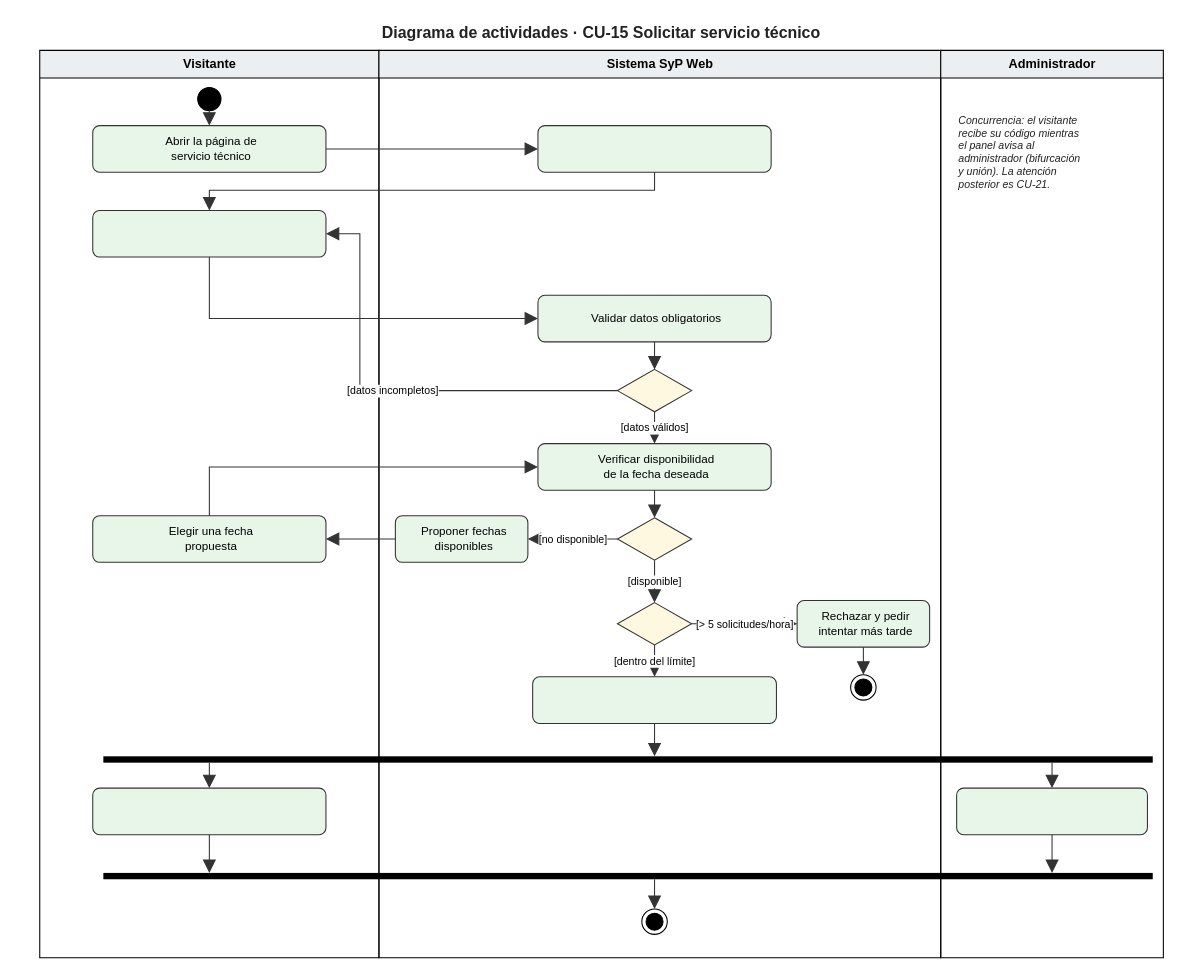
Image size: 1202x976. Some labels were removed from this diagram. Here are the shapes that lost their labels. From the top down, the centre of each, then its label:
(x=654, y=148): Mostrar formulario de solicitud
(x=209, y=233): Ingresar datos del equipo, problema y fecha deseada
(x=654, y=699): Registrar solicitud con código y estado «Pendiente»
(x=209, y=811): Ver código de la solicitud
(x=1051, y=811): Recibir aviso de nueva solicitud
